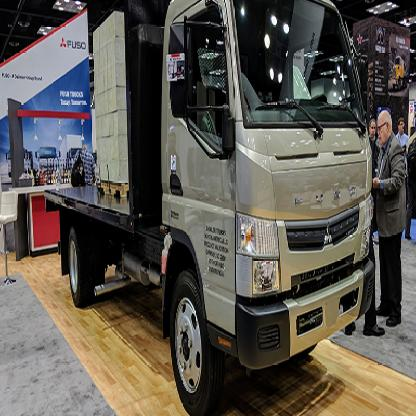truck: (44, 1, 377, 415)
